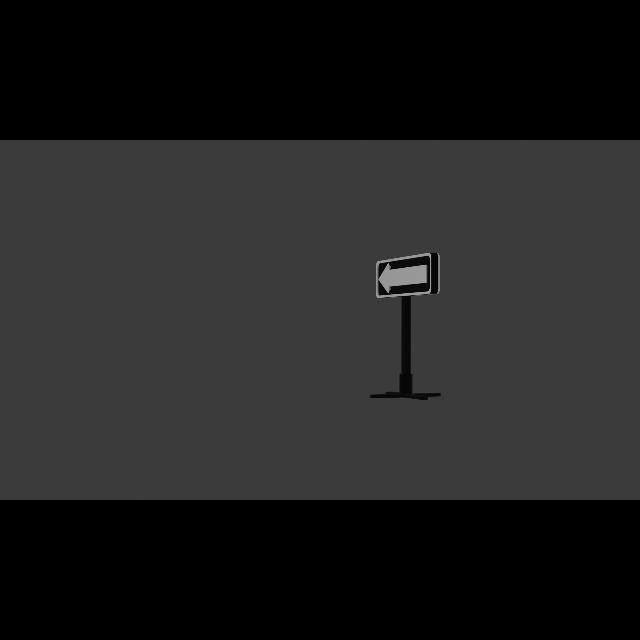sign_oneway_left: (376, 253, 441, 300)
